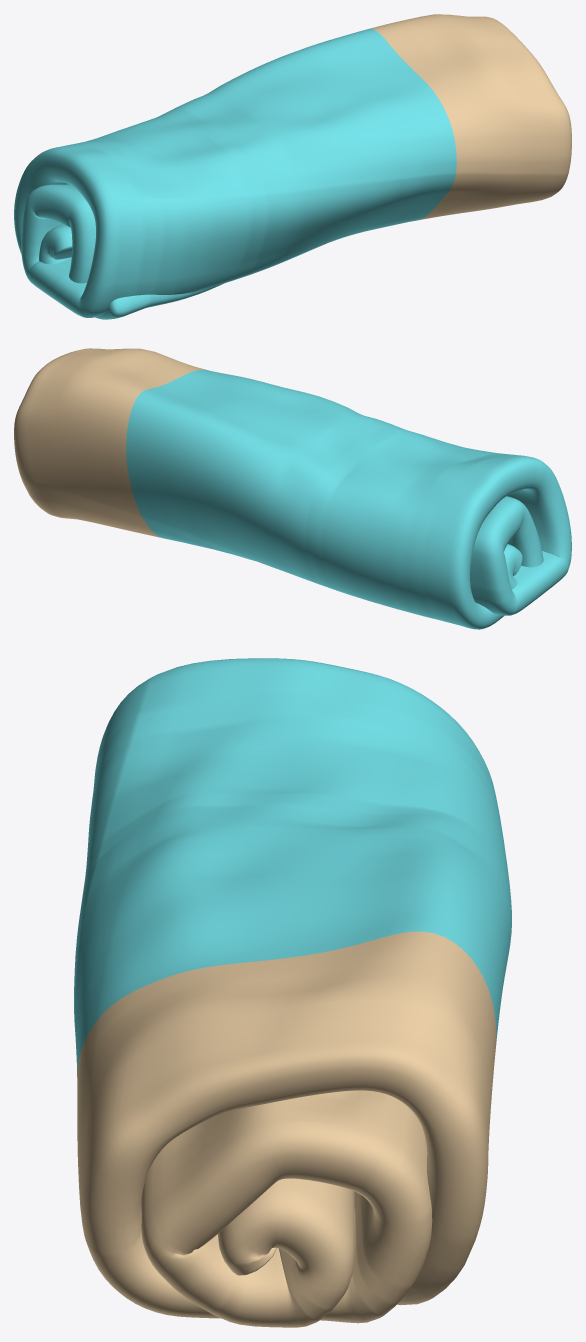
File: 수건v2.fbx
The picture shows the model from 3 angles, top to bottom: view 1: azimuth 30°, elevation 25°; view 2: azimuth 150°, elevation 25°; view 3: azimuth 270°, elevation 25°; orthographic projection. The views are drawn at different scales.
Visible parts, largest first — view 1: pCube8; view 2: pCube8; view 3: pCube8.
Part boxes in pixels (bbox=[...]): pCube8: bbox=[14, 14, 571, 319]; pCube8: bbox=[14, 348, 571, 629]; pCube8: bbox=[74, 658, 511, 1327].
Size of the model in its own units: 66.7 by 21.51 by 26.25.
